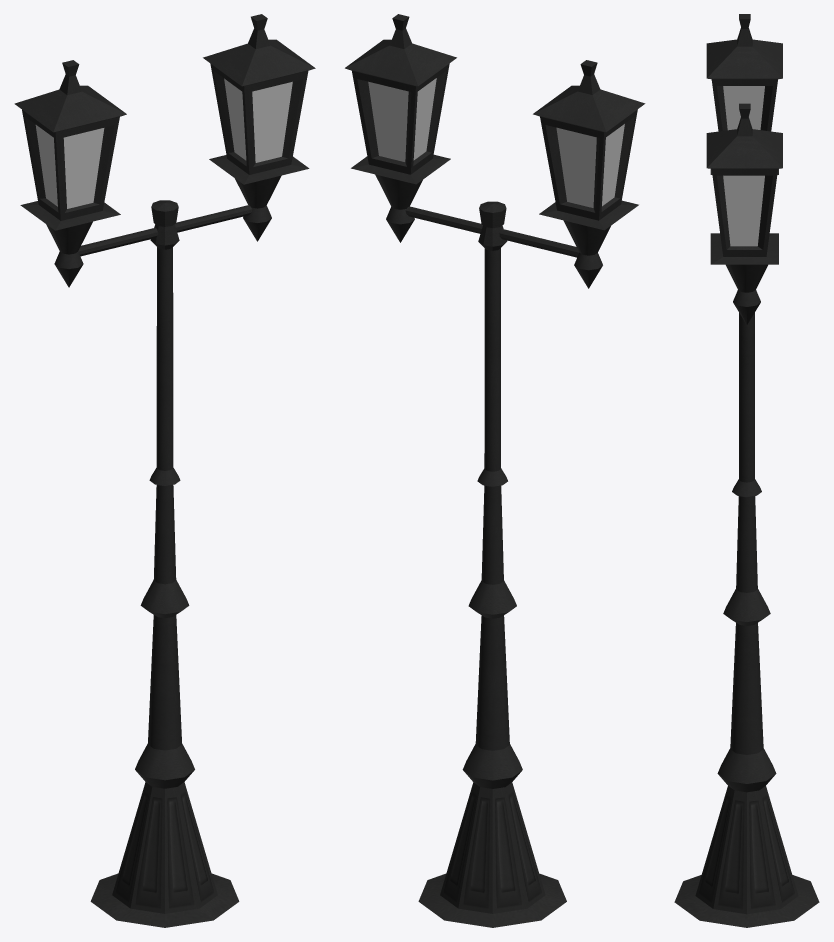
The model's file is D_lamppost_2x_park.FBX.
3 views of the same model, side by side, from view 1: azimuth 30°, elevation 25°; view 2: azimuth 150°, elevation 25°; view 3: azimuth 270°, elevation 25° (orthographic). The views are drawn at different scales.
Parts seen in each view (by area): view 1: Object155; view 2: Object155; view 3: Object155.
Boxes of the visible parts, left/top/right/bottom form: Object155: left=14, top=14, right=315, bottom=927; Object155: left=345, top=14, right=645, bottom=927; Object155: left=674, top=14, right=819, bottom=927.
Bounding box in the file's own units: 3.74 × 1.83 × 11.65.
